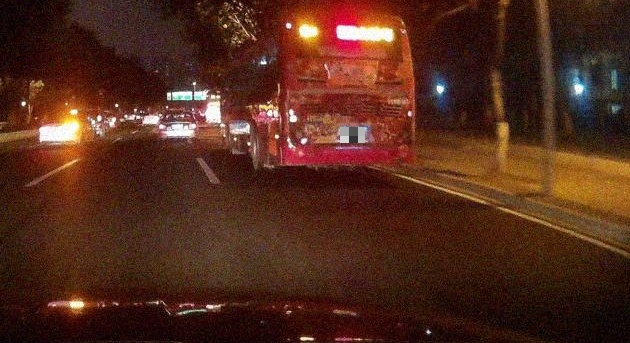L_light: (288, 99, 303, 142), (40, 127, 46, 133), (159, 124, 166, 129)
R_light: (398, 104, 413, 146), (67, 125, 77, 132), (189, 124, 196, 129)
T_light: (345, 15, 362, 22), (60, 114, 66, 116), (176, 113, 182, 114)
night-no: (280, 3, 416, 181), (159, 110, 197, 144)
night-right: (39, 112, 79, 149)
plate_1: (340, 127, 365, 143)
